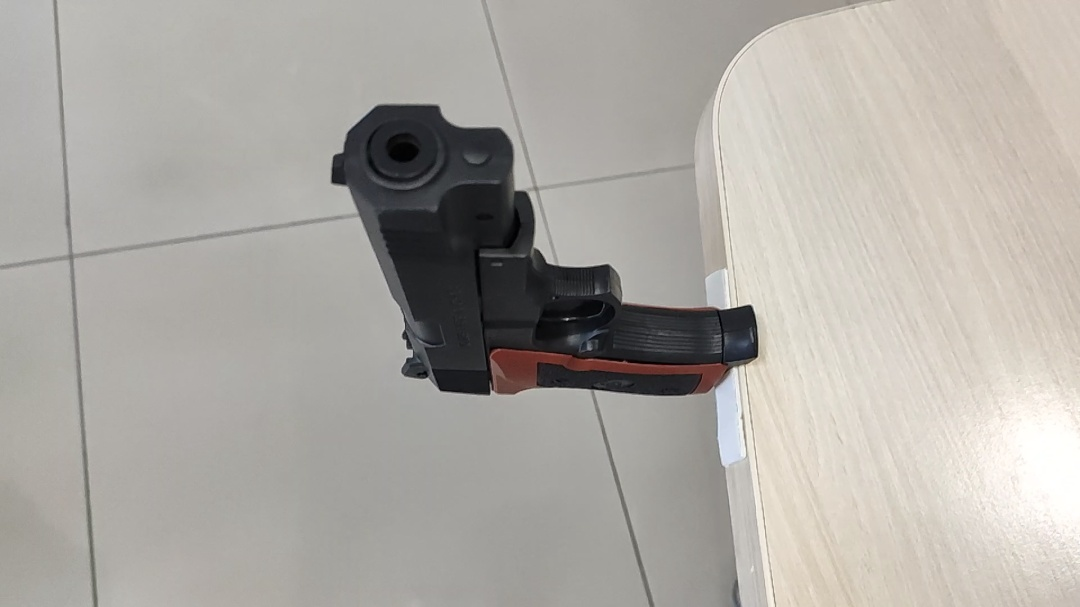gun: (611, 224, 658, 247)
